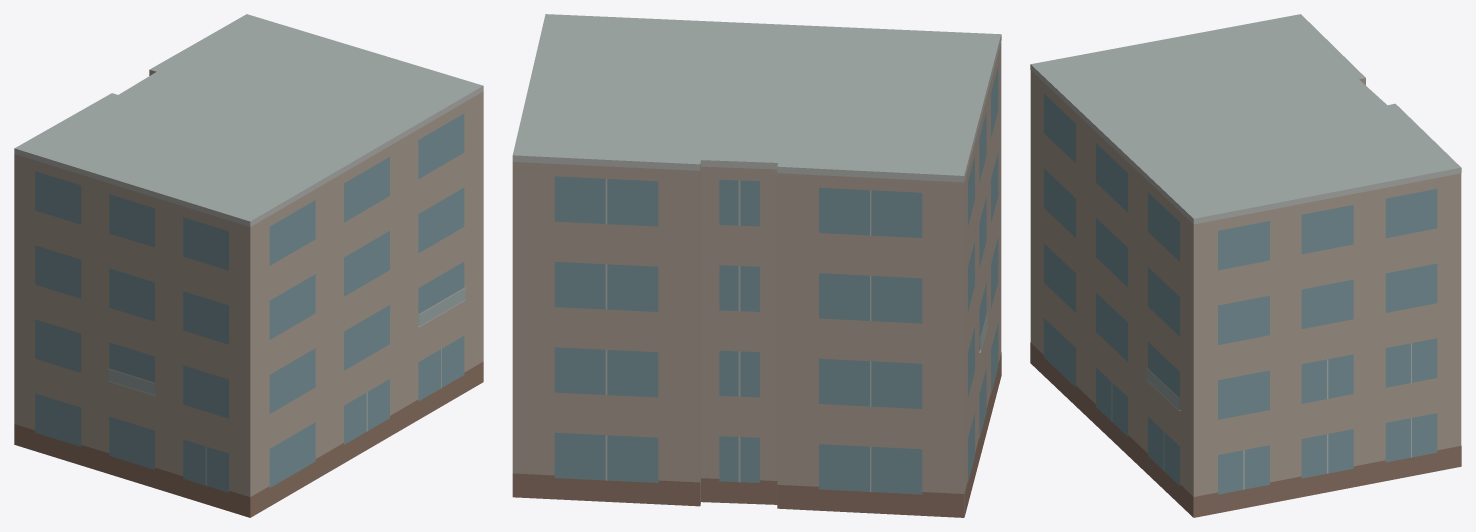
File: survey-upis-33019750.glb
The picture shows the model from 3 angles, left to right: view 1: azimuth 30°, elevation 25°; view 2: azimuth 150°, elevation 25°; view 3: azimuth 270°, elevation 25°; orthographic projection. The views are drawn at different scales.
Visible parts, largest first — view 1: survey-upis-33019750.tmp; view 2: survey-upis-33019750.tmp; view 3: survey-upis-33019750.tmp.
Part boxes in pixels (x1,y1,x2,y2): survey-upis-33019750.tmp: (14,14,483,517); survey-upis-33019750.tmp: (512,14,1001,517); survey-upis-33019750.tmp: (1030,14,1461,517).
Size of the model in its own units: 18.97 by 12.9 by 16.86.
